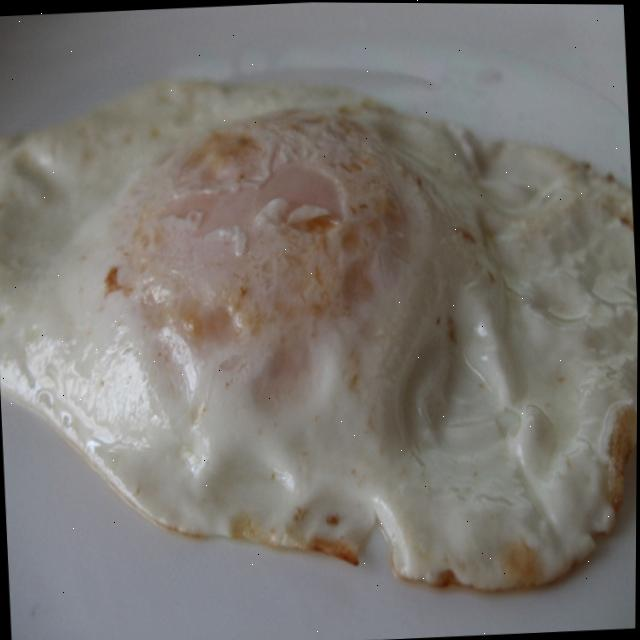鸡蛋料理: (0, 30, 640, 629)
